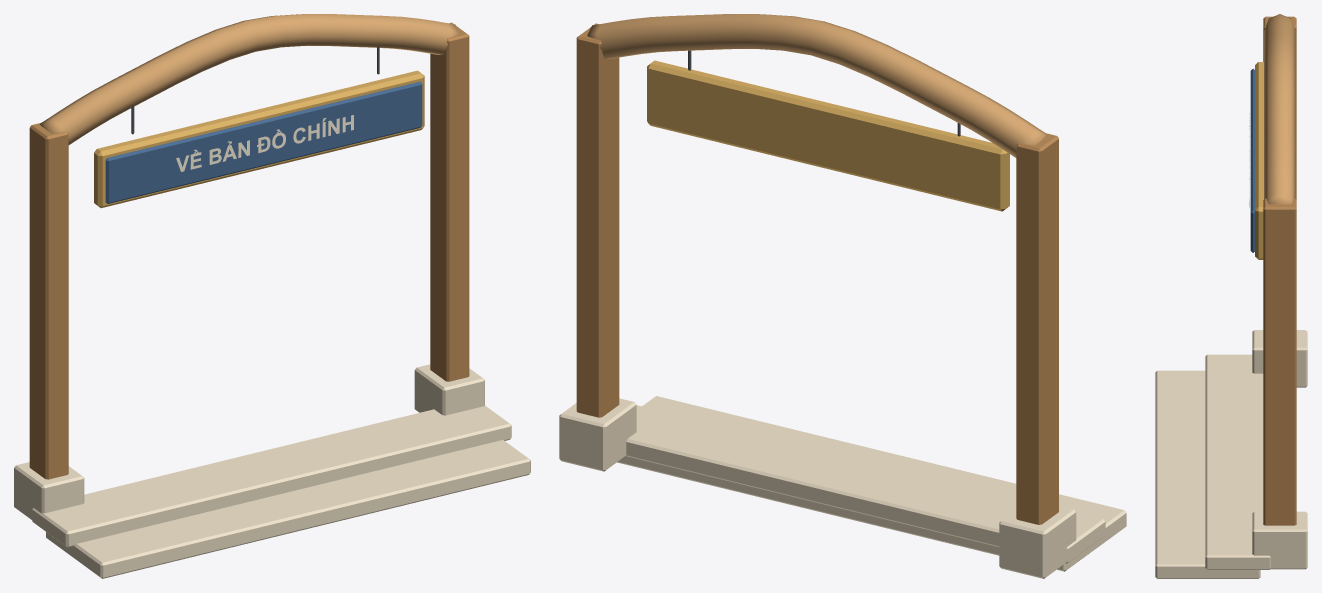
File: exit-gate.glb
3 renders of one model, left to right at view 1: azimuth 30°, elevation 25°; view 2: azimuth 150°, elevation 25°; view 3: azimuth 270°, elevation 25°, orthographic. The views are drawn at different scales.
Visible parts, largest first — view 1: exit_gate; view 2: exit_gate; view 3: exit_gate.
Part boxes in pixels (x1=…): exit_gate: x1=14, y1=14, x2=530, y2=578; exit_gate: x1=559, y1=14, x2=1126, y2=578; exit_gate: x1=1155, y1=14, x2=1307, y2=578.
Bounding box in the file's own units: 3.45 × 3.38 × 1.1.
